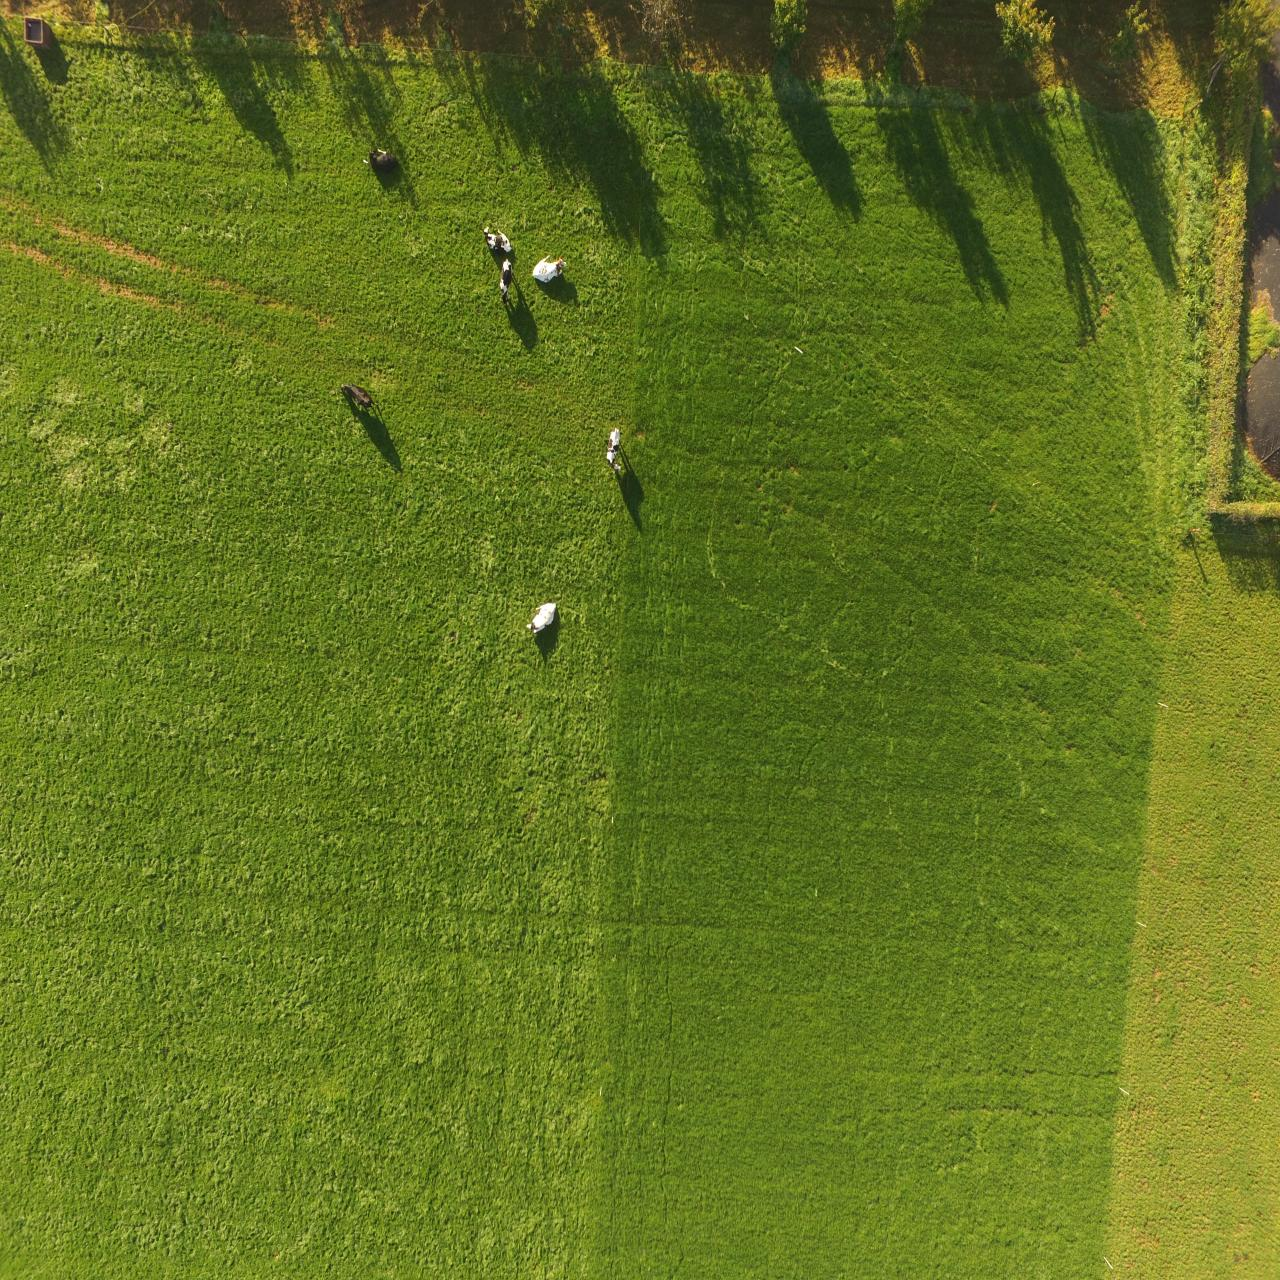cow: (332, 372, 384, 427), (367, 139, 406, 191), (525, 597, 560, 641), (479, 219, 515, 261), (530, 251, 568, 288), (602, 422, 626, 474), (495, 253, 516, 305)
